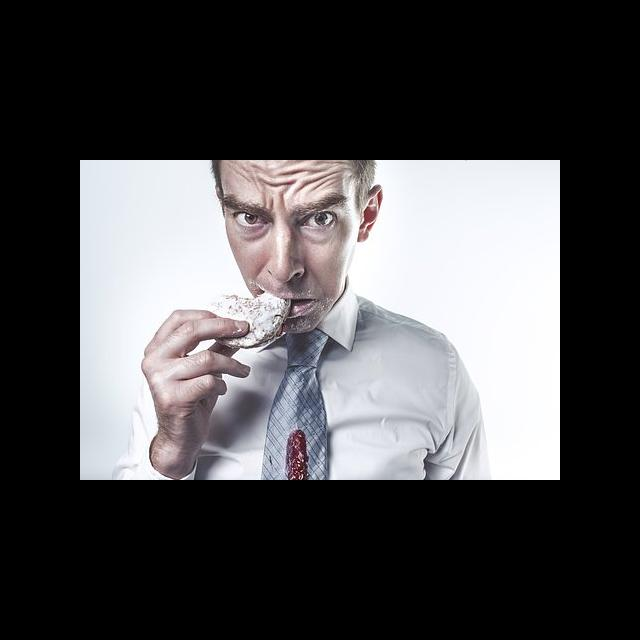male: (189, 160, 403, 338)
